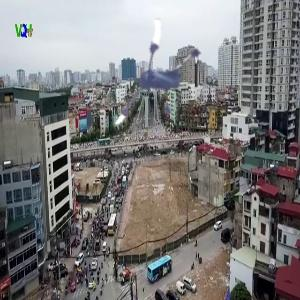drone: (100, 6, 225, 131)
